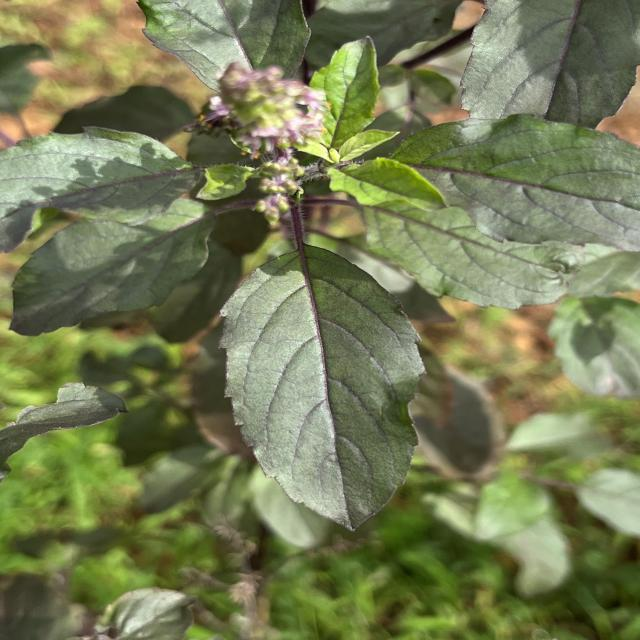Ocimum tenuiflorum: (213, 242, 432, 534)
